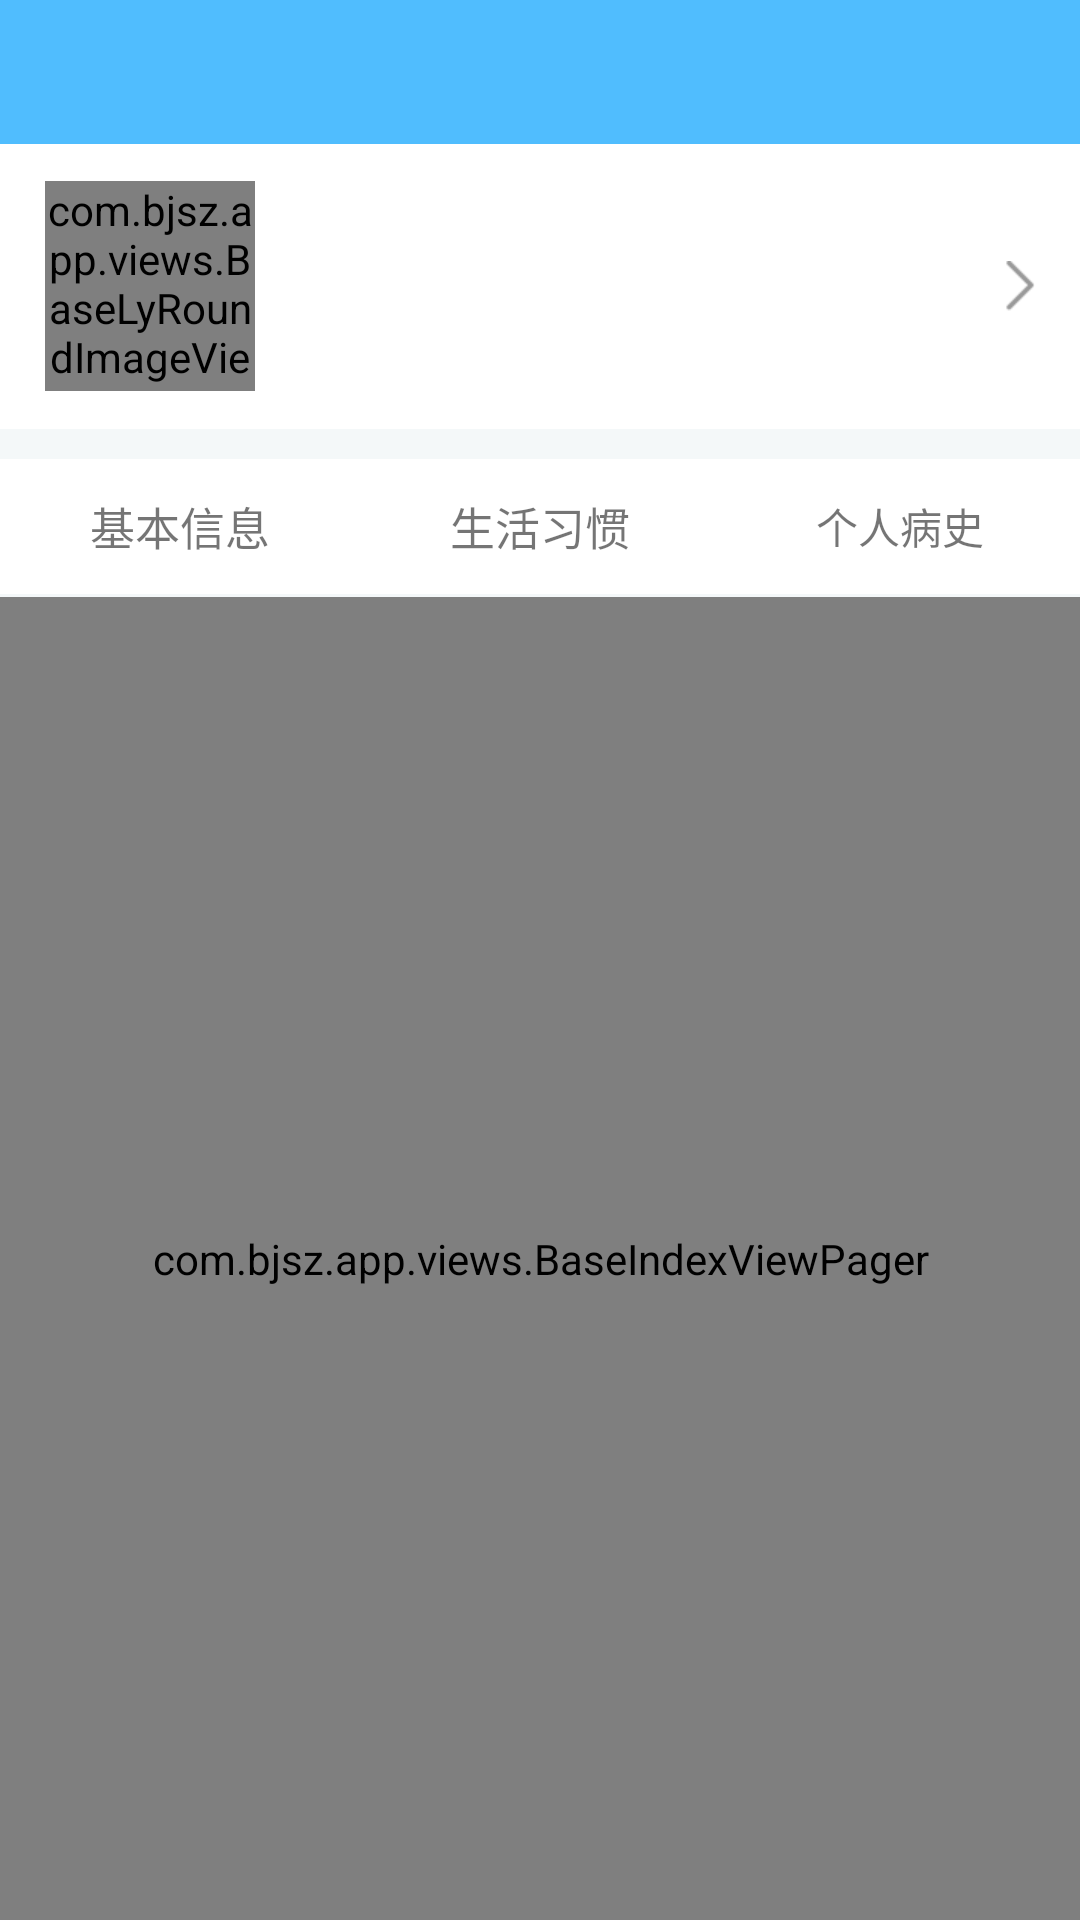

Where to tap for icons on this 1080px x 1920px app screen, as (x=x, y=y):
right: (x=1020, y=285)
